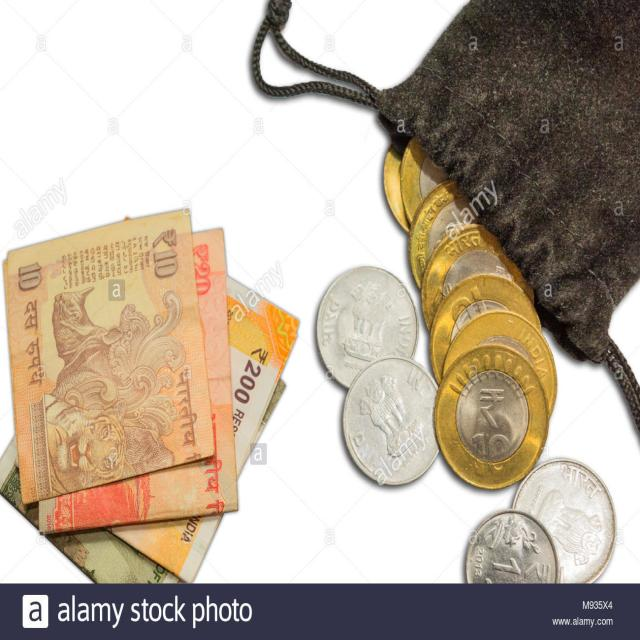10IndianRupees: (1, 206, 220, 504)
